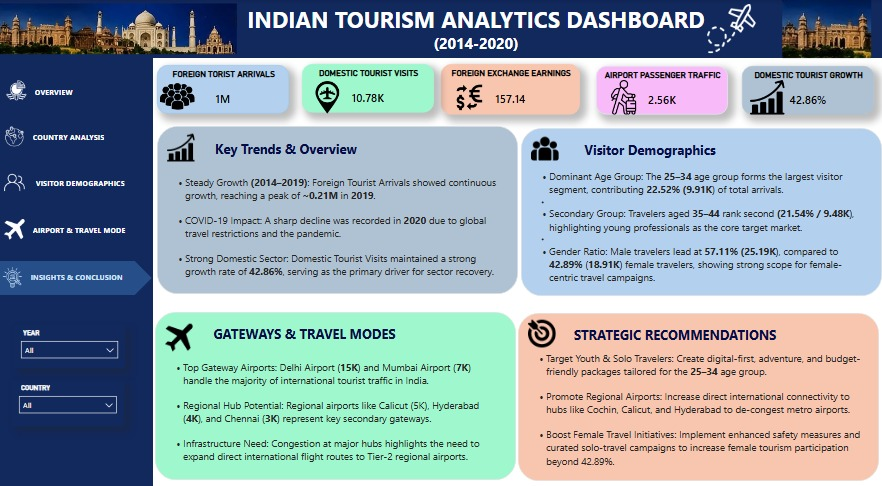

The dashboard page shown, as its layout file describes it:
{"tool":"powerbi","page":{"name":"OVERVIEW","canvas":[1280,720],"ordinal":0},"visuals":[{"type":"shape","box":[0,76.3,224.6,643.7],"z":0},{"type":"actionButton","box":[50.4,119.5,99.4,25.9],"z":1000},{"type":"cardVisual","title":" FOREIGN TORIST ARRIVALS","fields":{"Data":["Sum(General Data 2014-2020.feeftit)"]},"box":[230.4,93.6,190,70],"z":2000},{"type":"cardVisual","title":"AIRPORT PASSENGER TRAFFIC","fields":{"Data":["Sum(General Data 2014-2020.apfitr)"]},"box":[862.6,95,190,70],"z":3000},{"type":"donutChart","title":"TOURISTS BY AGE GROUP","fields":{"Category":["Country Wise Age Group.Attribute.2"],"Y":["Sum(Country Wise Age Group.Value)"]},"box":[580.3,383,301,326.9],"z":4000},{"type":"cardVisual","title":" FOREIGN EXCHANGE EARNINGS","fields":{"Data":["Sum(General Data 2014-2020.feeftust)"]},"box":[639.4,92.2,200,73.4],"z":5000},{"type":"cardVisual","title":"DOMESTIC TOURIST VISITS","fields":{"Data":["Sum(General Data 2014-2020.nodtvasu)"]},"box":[438.8,92.2,190,70],"z":6000},{"type":"slicer","fields":{"Values":["Country Wise Airport.Attribute.1"]},"box":[34.6,504,159.8,61.9],"z":7000},{"type":"clusteredColumnChart","title":"DOMESTIC TOURITS VISITS BY YEAR","fields":{"Category":["General Data 2014-2020.year"],"Y":["Sum(General Data 2014-2020.nodtvasu)"]},"box":[892.8,171.4,370.1,244.8],"z":8000},{"type":"lineChart","title":"FOREIGN TOURIST ARRIVALS TREND (2014-2020)","fields":{"Category":["General Data 2014-2020.year"],"Y":["Sum(General Data 2014-2020.feeftit)"]},"box":[234.7,172.8,643.7,203],"z":9000},{"type":"image","box":[12.7,115,30,30],"z":10000},{"type":"clusteredBarChart","title":"AIRPORT WISE TOURITS ARRIVALS","fields":{"Category":["Country Wise Airport.Attribute.2"],"Y":["Sum(Country Wise Airport.Value)"]},"box":[234.7,383,338.4,326.9],"z":11000},{"type":"image","box":[9.9,182,30,30],"z":12000},{"type":"actionButton","box":[47.5,182.2,130.4,29.8],"z":13000},{"type":"image","box":[9.9,315.9,30,30],"z":14000},{"type":"actionButton","box":[47.5,315.8,151.2,30.2],"z":15000},{"type":"image","box":[9.9,247.5,30,30],"z":16000},{"type":"actionButton","box":[51.8,247.4,148.3,30.2],"z":17000},{"type":"shape","box":[0,0,1278.7,83.5],"z":18000},{"type":"image","box":[1006.6,5.8,102.2,70.6],"z":19000},{"type":"cardVisual","title":"DOMESTIC TOURIST GROWTH","fields":{"Data":["Avg(General Data 2014-2020.nodtvasuagr)"]},"box":[1072.8,95,190,70],"z":20000},{"type":"pieChart","title":"MALE VS FEMALE TOURISTS","fields":{"Category":["Country Wise Gender.Attribute.2"],"Y":["Sum(Country Wise Gender.Value)"]},"box":[900,420.5,362.9,112.3],"z":21000},{"type":"map","title":"COUNTRY WISE TORIST DISTRIBUTION","fields":{"Category":["Country Wise Visitors Ways.Country of Nationality"],"Size":["Sum(Country Wise Visitors Ways.Value)"]},"box":[892.8,547.2,370.1,162.7],"z":22000},{"type":"textbox","box":[326.9,0,725.8,89.3],"z":23000},{"type":"actionButton","box":[46.1,385.9,148.3,27.4],"z":26000},{"type":"image","box":[8.4,385.8,30,30],"z":28000},{"type":"image","box":[234.7,113.8,50,50.4],"z":30000},{"type":"image","box":[450.7,115.2,50,50],"z":31000},{"type":"image","box":[1084.3,115.2,50,50],"z":32000},{"type":"image","box":[877,115.2,50,50],"z":33000},{"type":"image","box":[655.2,115.2,50,50],"z":34000},{"type":"image","box":[1.4,0,344.2,83.5],"z":35000},{"type":"image","box":[1108.8,0,171.4,83.5],"z":36000},{"type":"shape","box":[1.4,105.1,223.2,49],"z":37000},{"type":"shape","box":[0,171.4,223.2,49],"z":38000},{"type":"shape","box":[0,237.6,223.2,49],"z":39000},{"type":"shape","box":[0,303.8,223.2,49],"z":40000},{"type":"shape","box":[0,375.8,223.2,49],"z":43000},{"type":"slicer","fields":{"Values":["Country Wise Age Group.Country of Nationality"]},"box":[33.1,580.3,161.3,66.2],"z":44000}]}

Visuals, with their boxes in screenshot pixels (x1, y1, x2, y2), scaled from the page's 1280x720 canvas onto the 882x486 screenshot:
shape: (left=0, top=52, right=155, bottom=485)
actionButton: (left=35, top=81, right=103, bottom=98)
" FOREIGN TORIST ARRIVALS" cardVisual: (left=159, top=63, right=290, bottom=110)
"AIRPORT PASSENGER TRAFFIC" cardVisual: (left=594, top=64, right=725, bottom=111)
"TOURISTS BY AGE GROUP" donutChart: (left=400, top=259, right=607, bottom=479)
" FOREIGN EXCHANGE EARNINGS" cardVisual: (left=441, top=62, right=578, bottom=112)
"DOMESTIC TOURIST VISITS" cardVisual: (left=302, top=62, right=433, bottom=109)
slicer - Country Wise Airport.Attribute.1: (left=24, top=340, right=134, bottom=382)
"DOMESTIC TOURITS VISITS BY YEAR" clusteredColumnChart: (left=615, top=116, right=870, bottom=281)
"FOREIGN TOURIST ARRIVALS TREND (2014-2020)" lineChart: (left=162, top=117, right=605, bottom=254)
image: (left=9, top=78, right=29, bottom=98)
"AIRPORT WISE TOURITS ARRIVALS" clusteredBarChart: (left=162, top=259, right=395, bottom=479)
image: (left=7, top=123, right=27, bottom=143)
actionButton: (left=33, top=123, right=123, bottom=143)
image: (left=7, top=213, right=27, bottom=233)
actionButton: (left=33, top=213, right=137, bottom=234)
image: (left=7, top=167, right=27, bottom=187)
actionButton: (left=36, top=167, right=138, bottom=187)
shape: (left=0, top=0, right=881, bottom=56)
image: (left=694, top=4, right=764, bottom=52)
"DOMESTIC TOURIST GROWTH" cardVisual: (left=739, top=64, right=870, bottom=111)
"MALE VS FEMALE TOURISTS" pieChart: (left=620, top=284, right=870, bottom=360)
"COUNTRY WISE TORIST DISTRIBUTION" map: (left=615, top=369, right=870, bottom=479)
textbox: (left=225, top=0, right=725, bottom=60)
actionButton: (left=32, top=260, right=134, bottom=279)
image: (left=6, top=260, right=26, bottom=281)
image: (left=162, top=77, right=196, bottom=111)
image: (left=311, top=78, right=345, bottom=112)
image: (left=747, top=78, right=782, bottom=112)
image: (left=604, top=78, right=639, bottom=112)
image: (left=451, top=78, right=486, bottom=112)
image: (left=1, top=0, right=238, bottom=56)
image: (left=764, top=0, right=881, bottom=56)
shape: (left=1, top=71, right=155, bottom=104)
shape: (left=0, top=116, right=154, bottom=149)
shape: (left=0, top=160, right=154, bottom=193)
shape: (left=0, top=205, right=154, bottom=238)
shape: (left=0, top=254, right=154, bottom=287)
slicer - Country Wise Age Group.Country of Nationality: (left=23, top=392, right=134, bottom=436)
